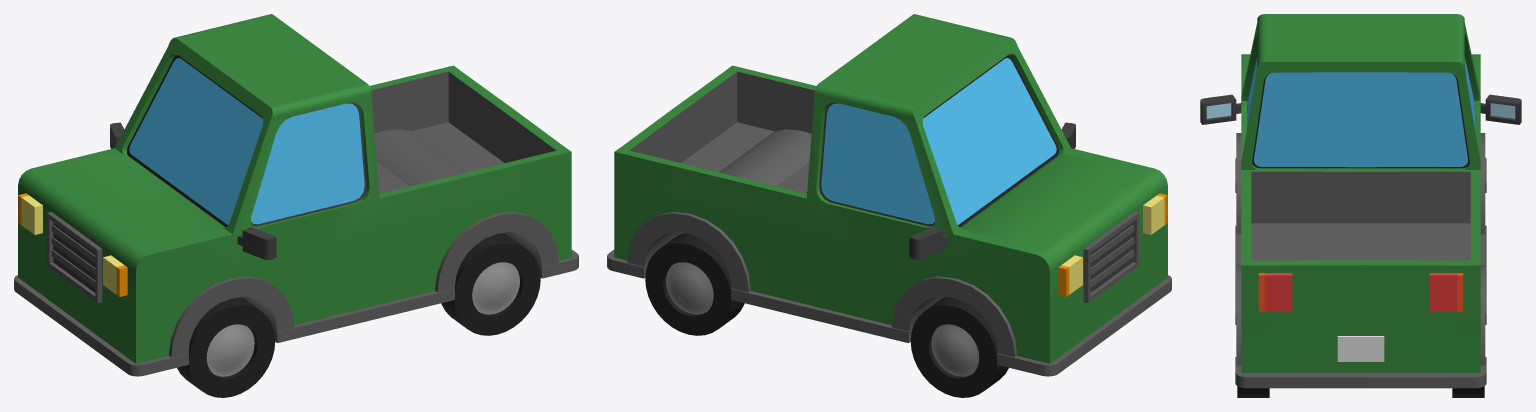
The model's file is pickup_truck.fbx.
3 renders of one model, left to right at view 1: azimuth 30°, elevation 25°; view 2: azimuth 150°, elevation 25°; view 3: azimuth 270°, elevation 25°, orthographic.
Visible parts, largest first — view 1: Cube.671; view 2: Cube.671; view 3: Cube.671.
Boxes of the visible parts, x1,y1,x2,y2 form: Cube.671: (14, 14, 578, 397); Cube.671: (607, 14, 1171, 397); Cube.671: (1200, 14, 1521, 397).
Bounding box in the file's own units: 211 × 120 × 128.
1 material, 1 textured.
